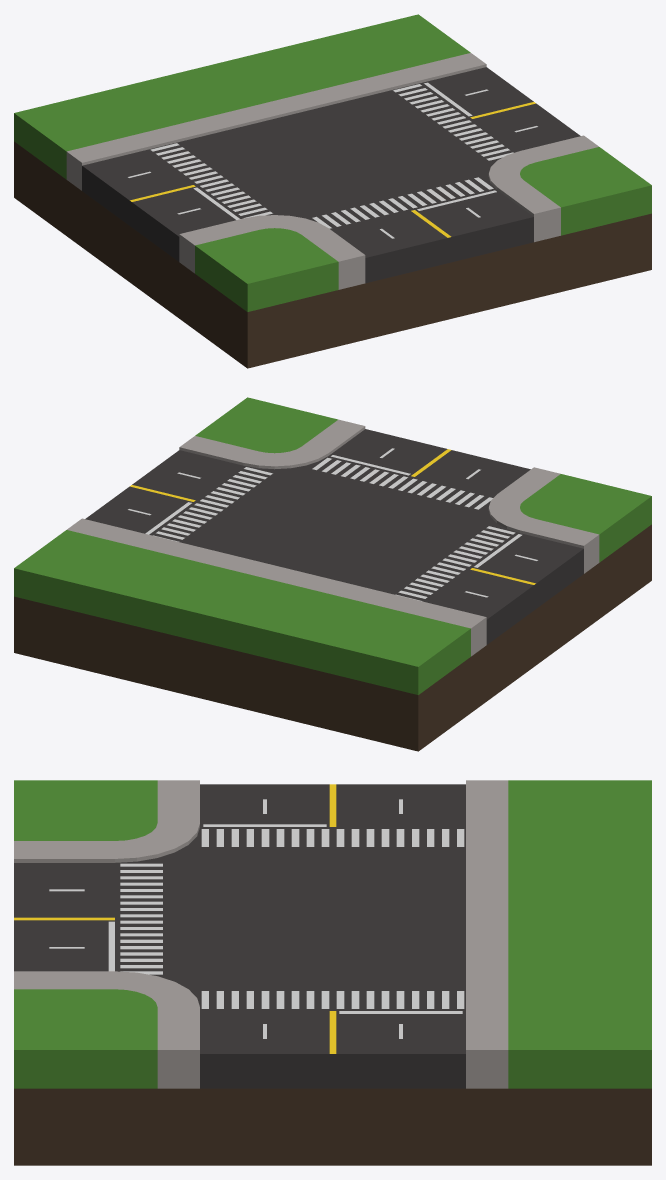
File: tiles_tile-mainroad-intersection-t.fbx
3 views of the same model, one above another, from view 1: azimuth 30°, elevation 25°; view 2: azimuth 150°, elevation 25°; view 3: azimuth 270°, elevation 25° (orthographic). The views are drawn at different scales.
Visible parts, largest first — view 1: tiles_tile_mainroad_intersection_t; view 2: tiles_tile_mainroad_intersection_t; view 3: tiles_tile_mainroad_intersection_t.
Boxes of the visible parts, bbox=[...] form: tiles_tile_mainroad_intersection_t: bbox=[14, 14, 651, 368]; tiles_tile_mainroad_intersection_t: bbox=[14, 397, 651, 751]; tiles_tile_mainroad_intersection_t: bbox=[14, 780, 651, 1165].
Bounding box in the file's own units: 200 × 40 × 200.
